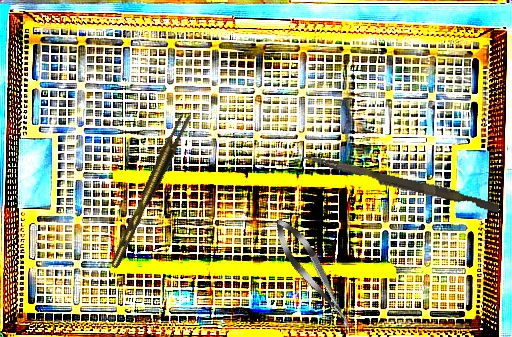Micro Scissor: (267, 212, 360, 336)
Pusher: (300, 153, 501, 213)
Tissue Forceps: (102, 110, 197, 270)
